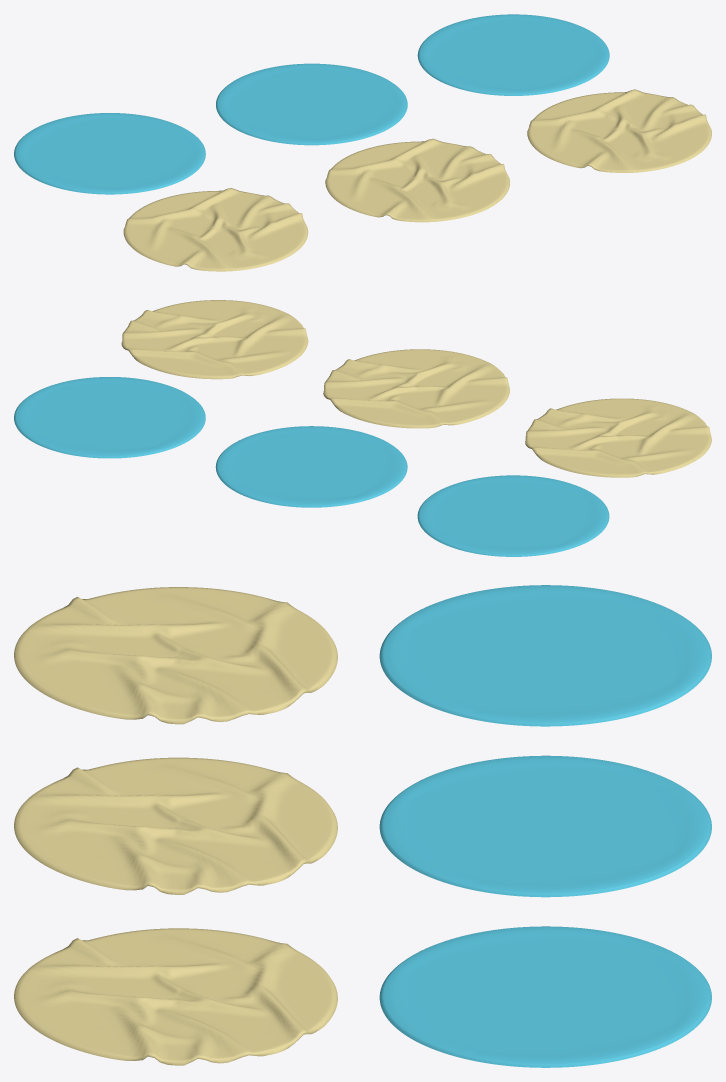
The model's file is Round_Rug_OBJ.obj.
3 renders of one model, top to bottom at view 1: azimuth 30°, elevation 25°; view 2: azimuth 150°, elevation 25°; view 3: azimuth 270°, elevation 25°, orthographic. The views are drawn at different scales.
Parts seen in each view (by area): view 1: Rug_2_1_V_Ray_Displacement, Rug_3_1_V_Ray_Displacement, Rug_1_1_V_Ray_Displacement, Rug_1_2_V_Ray_Displacement, Rug_2_2_V_Ray_Displacement, Rug_3_2_V_Ray_Displacement; view 2: Rug_1_1_V_Ray_Displacement, Rug_2_1_V_Ray_Displacement, Rug_3_1_V_Ray_Displacement, Rug_1_2_V_Ray_Displacement, Rug_2_2_V_Ray_Displacement, Rug_3_2_V_Ray_Displacement; view 3: Rug_1_1_V_Ray_Displacement, Rug_3_1_V_Ray_Displacement, Rug_2_1_V_Ray_Displacement, Rug_2_2_V_Ray_Displacement, Rug_3_2_V_Ray_Displacement, Rug_1_2_V_Ray_Displacement.
Part boxes in pixels (<box>): Rug_2_1_V_Ray_Displacement: <box>216,63,407,145</box>; Rug_3_1_V_Ray_Displacement: <box>417,14,609,95</box>; Rug_1_1_V_Ray_Displacement: <box>14,113,205,194</box>; Rug_1_2_V_Ray_Displacement: <box>123,188,308,271</box>; Rug_2_2_V_Ray_Displacement: <box>325,138,509,222</box>; Rug_3_2_V_Ray_Displacement: <box>527,89,711,172</box>; Rug_1_1_V_Ray_Displacement: <box>417,475,609,556</box>; Rug_2_1_V_Ray_Displacement: <box>215,426,407,507</box>; Rug_3_1_V_Ray_Displacement: <box>14,377,205,458</box>; Rug_1_2_V_Ray_Displacement: <box>525,398,711,477</box>; Rug_2_2_V_Ray_Displacement: <box>323,349,509,428</box>; Rug_3_2_V_Ray_Displacement: <box>121,300,308,379</box>; Rug_1_1_V_Ray_Displacement: <box>379,585,711,726</box>; Rug_3_1_V_Ray_Displacement: <box>379,926,711,1067</box>; Rug_2_1_V_Ray_Displacement: <box>379,755,711,897</box>; Rug_2_2_V_Ray_Displacement: <box>14,757,337,894</box>; Rug_3_2_V_Ray_Displacement: <box>14,928,337,1065</box>; Rug_1_2_V_Ray_Displacement: <box>14,587,337,724</box>.
Bounding box in the file's own units: 413 × 3.98 × 253.
